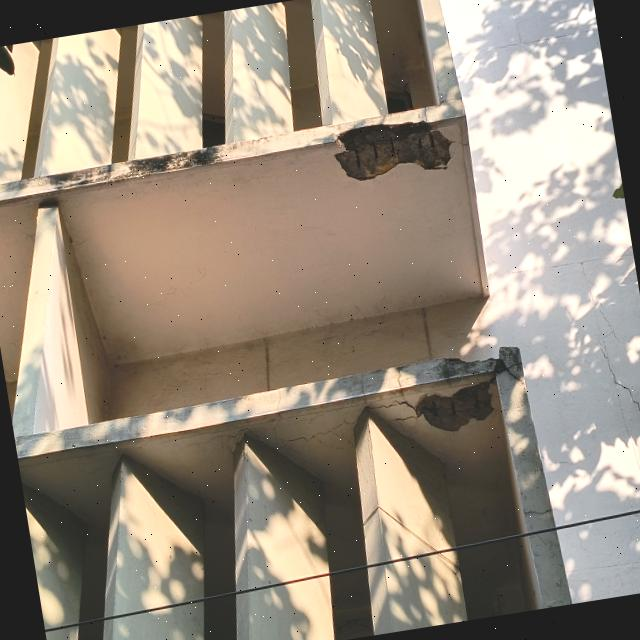Crack: (588, 301, 640, 432), (272, 389, 363, 450), (365, 363, 423, 426)
Spalling: (335, 121, 451, 180), (415, 383, 493, 432)
pollution -moisture induced blackening: (0, 131, 293, 200)
